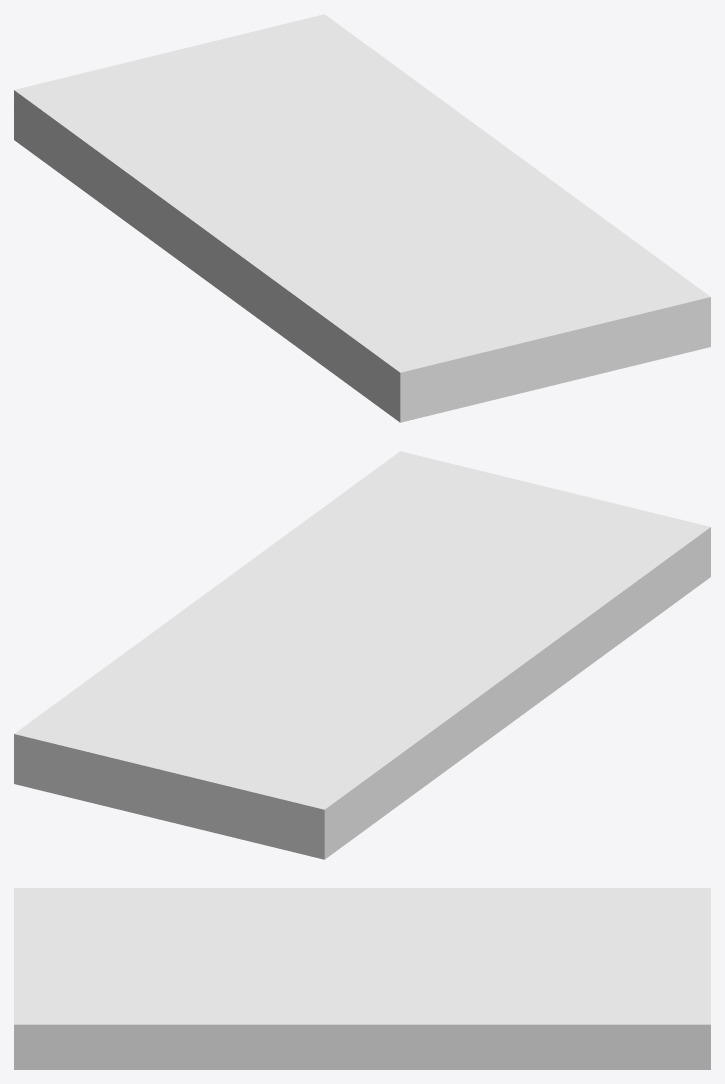
Rendered from materasso.gltf.
The picture shows the model from 3 angles, top to bottom: view 1: azimuth 30°, elevation 25°; view 2: azimuth 150°, elevation 25°; view 3: azimuth 270°, elevation 25°; orthographic projection. The views are drawn at different scales.
Parts seen in each view (by area): view 1: Layer.1; view 2: Layer.1; view 3: Layer.1.
Part boxes in pixels (x1,y1,x2,y2): Layer.1: (14,14,710,422); Layer.1: (14,451,710,859); Layer.1: (14,888,710,1069).
Bounding box in the file's own units: 13 × 2 × 28.
Materials: 1 (1 with a texture image).
